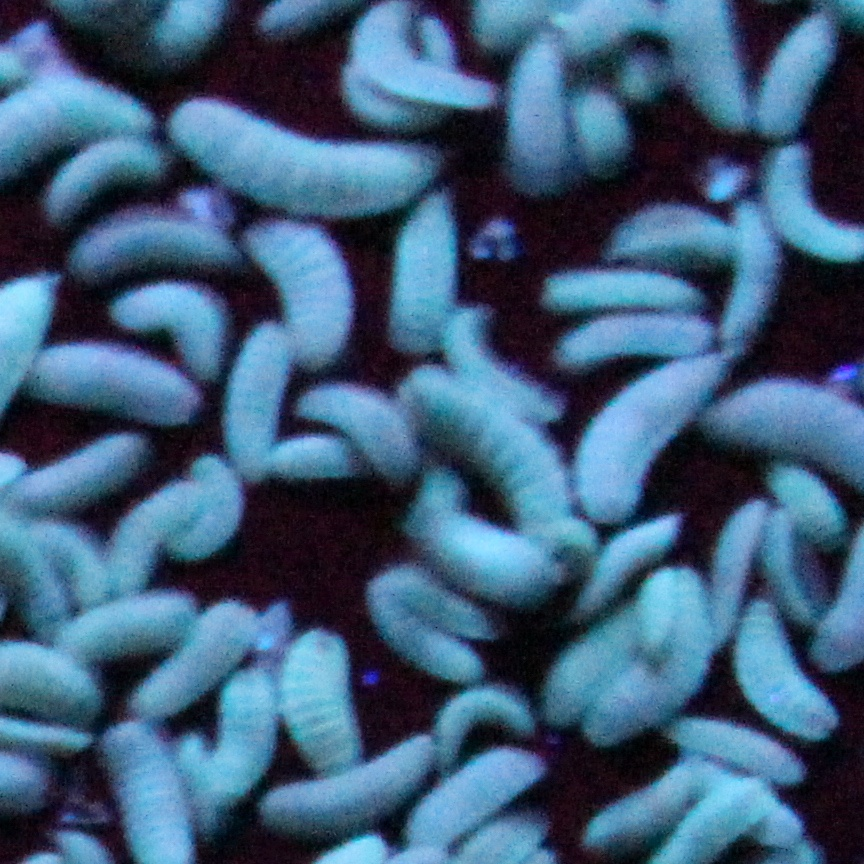larve: (343, 7, 489, 119), (193, 119, 401, 194), (573, 374, 700, 494), (287, 622, 354, 772), (36, 349, 186, 415), (553, 312, 720, 364), (677, 2, 746, 127), (713, 389, 856, 449), (431, 398, 534, 478), (397, 201, 450, 354), (51, 147, 171, 214), (509, 48, 563, 191), (16, 441, 157, 495), (230, 332, 281, 481), (426, 517, 539, 584), (53, 597, 197, 647), (710, 498, 757, 648), (270, 225, 347, 315), (729, 207, 773, 351), (214, 685, 274, 789), (67, 228, 234, 265), (767, 15, 820, 130), (743, 652, 823, 724), (539, 272, 701, 307), (769, 532, 827, 629), (271, 775, 374, 829), (569, 89, 629, 174), (127, 288, 223, 341), (431, 698, 530, 747), (427, 767, 511, 822), (589, 784, 667, 841), (117, 502, 167, 585), (331, 397, 413, 444), (549, 644, 601, 718), (779, 464, 840, 521), (681, 729, 786, 762), (401, 628, 470, 678), (610, 672, 671, 727), (60, 522, 107, 592), (193, 471, 230, 551), (204, 609, 247, 665), (647, 570, 670, 645), (301, 447, 367, 472)
